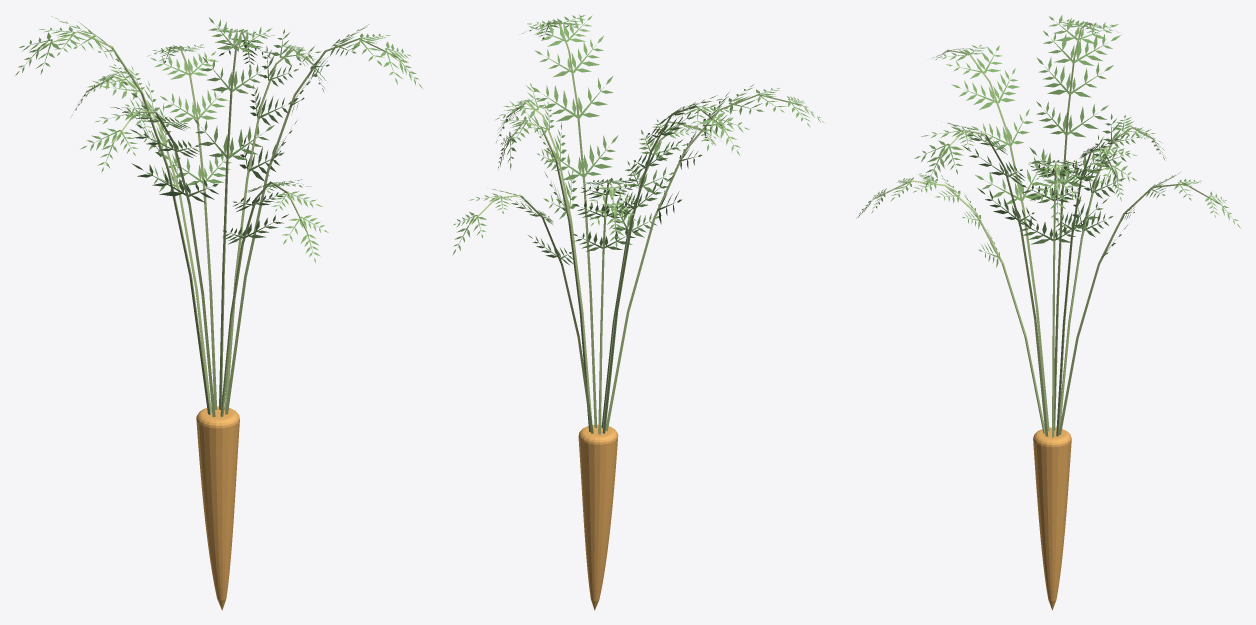
The model's file is carrot_v19.glb.
3 views of the same model, side by side, from view 1: azimuth 30°, elevation 25°; view 2: azimuth 150°, elevation 25°; view 3: azimuth 270°, elevation 25° (orthographic). The views are drawn at different scales.
Visible parts, largest first — view 1: leaves, petioles, root; view 2: leaves, petioles, root; view 3: leaves, petioles, root.
Part boxes in pixels (x1=…): leaves: x1=15, y1=16, x2=423, y2=262; petioles: x1=40, y1=31, x2=397, y2=416; root: x1=196, y1=406, x2=239, y2=610; leaves: x1=452, y1=14, x2=825, y2=265; petioles: x1=468, y1=22, x2=801, y2=434; root: x1=578, y1=424, x2=618, y2=610; leaves: x1=856, y1=15, x2=1240, y2=267; petioles: x1=872, y1=23, x2=1220, y2=437; root: x1=1033, y1=427, x2=1071, y2=610.
Size of the model in its own units: 0.3161 by 0.5581 by 0.3676.
